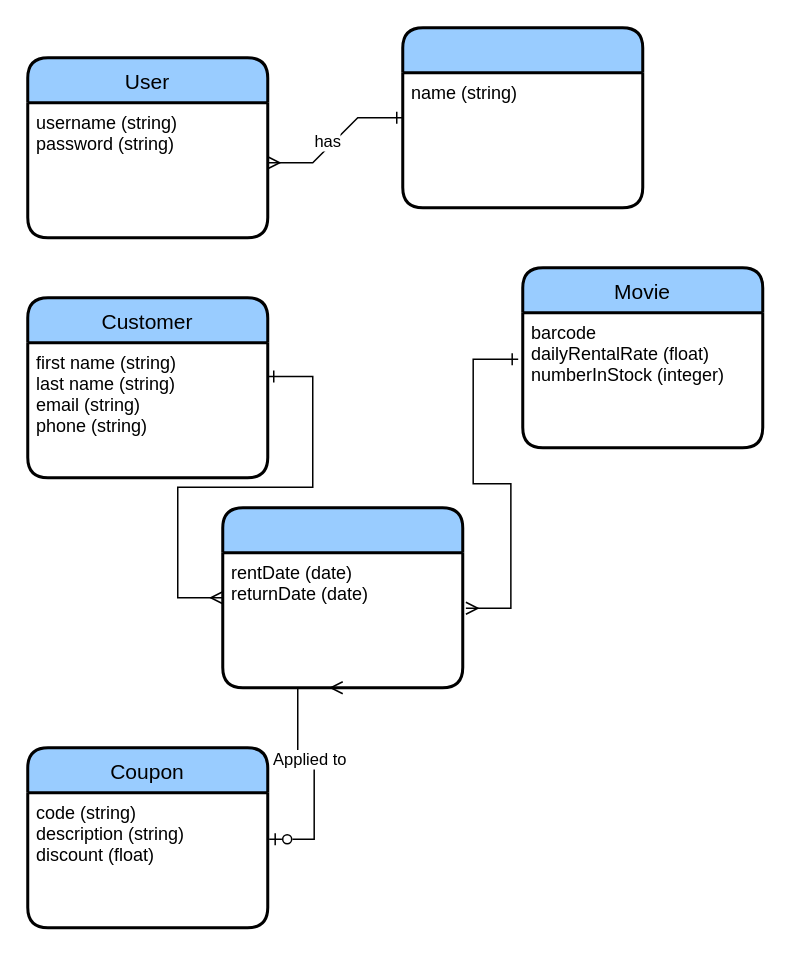
The diagram is 789 pixels wide and 954 high, and some of its shapes have lost their labels. Here are the shapes that lost their labels. From the top down, the box of each, then its label:
(400, 26, 644, 208): Role
(220, 506, 464, 688): Rental
